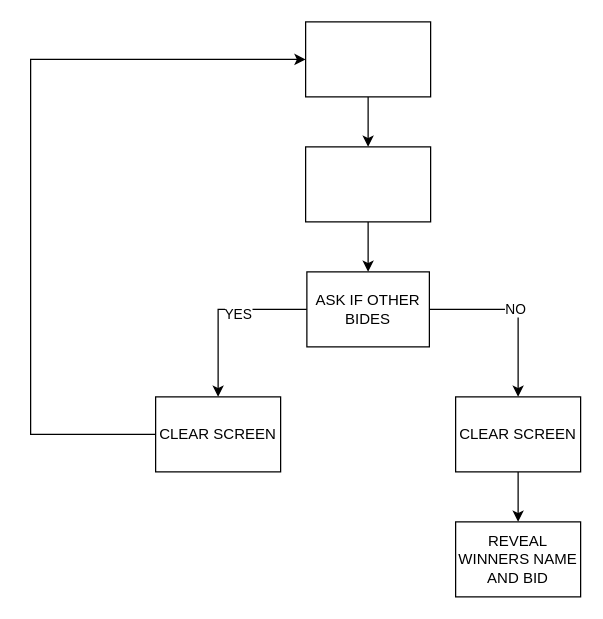
Image size: 603x619. Some labels were removed from this diagram. Each missing label, with the centre of its shape:
ASK USER BID: (367,184)
ASK USER NAME: (367,59)
